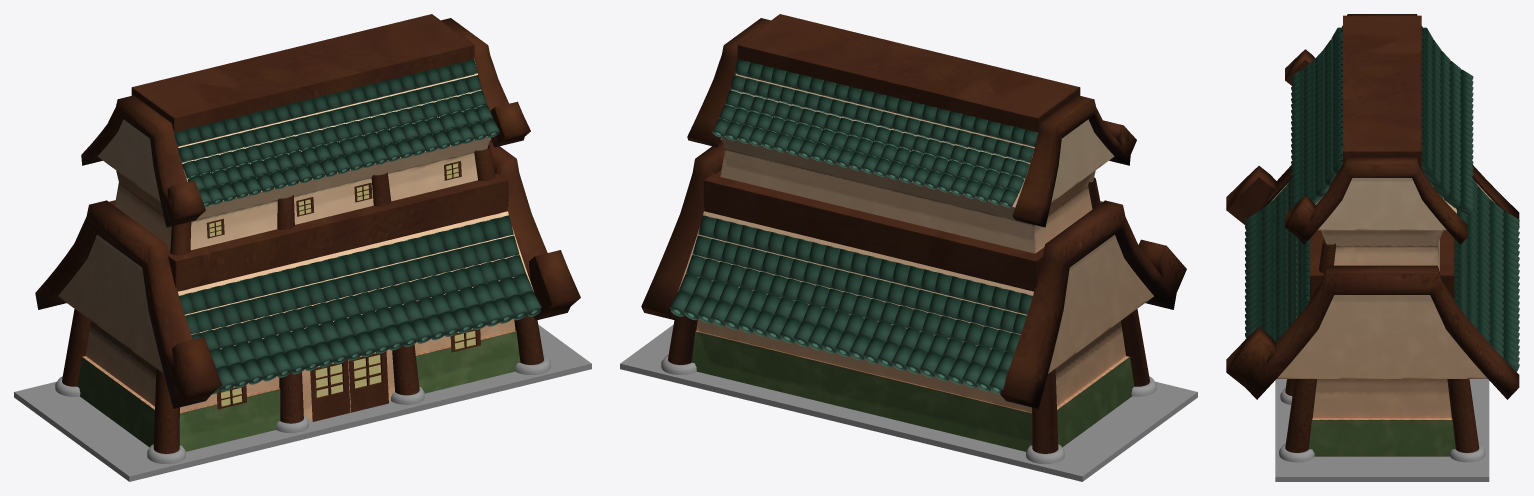
Rendered from Building1.fbx.
The picture shows the model from 3 angles, left to right: view 1: azimuth 30°, elevation 25°; view 2: azimuth 150°, elevation 25°; view 3: azimuth 270°, elevation 25°; orthographic projection. The views are drawn at different scales.
Visible parts, largest first — view 1: House; view 2: House; view 3: House.
Part boxes in pixels (x1,y1,x2,y2): House: (14,14,591,481); House: (620,14,1197,481); House: (1226,14,1519,481).
Size of the model in its own units: 2184 by 1431 by 1296.
7 materials, 6 textured.
